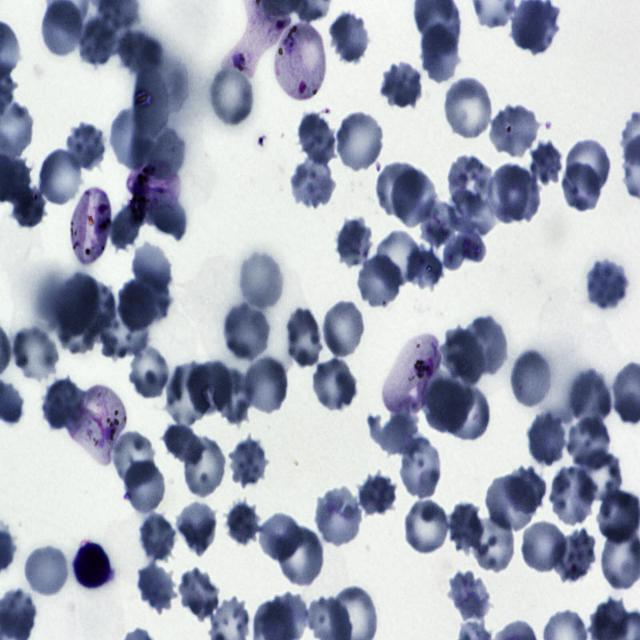leukocyte: (72, 540, 112, 590)
red blood cell: (275, 525, 324, 587), (333, 109, 382, 170), (446, 154, 494, 215), (315, 487, 362, 547), (376, 160, 423, 220), (486, 474, 536, 530), (132, 67, 168, 144), (445, 77, 491, 137), (373, 233, 422, 289), (568, 368, 612, 429), (165, 362, 209, 423), (445, 382, 490, 441), (58, 298, 105, 354), (391, 168, 436, 226), (223, 304, 270, 359), (463, 316, 507, 374), (288, 157, 336, 210), (115, 26, 163, 79), (400, 436, 441, 498), (210, 66, 253, 125), (440, 327, 484, 384), (187, 360, 231, 417), (489, 106, 538, 157), (240, 252, 283, 310), (424, 380, 470, 434), (474, 510, 514, 572), (243, 358, 287, 414), (184, 436, 225, 496), (551, 468, 594, 525), (110, 108, 150, 169), (13, 327, 58, 381), (418, 24, 459, 83), (213, 366, 254, 425), (510, 350, 551, 408), (496, 166, 540, 220), (578, 450, 622, 504), (142, 126, 186, 180), (358, 253, 401, 308), (114, 431, 156, 487), (585, 259, 629, 312), (39, 150, 82, 204), (324, 300, 364, 358), (58, 274, 98, 332), (488, 164, 526, 225), (448, 188, 496, 236), (368, 412, 418, 458), (598, 490, 640, 544), (41, 378, 83, 432), (296, 111, 337, 166), (100, 310, 146, 359), (567, 418, 610, 470), (406, 501, 448, 554), (124, 459, 165, 513), (520, 522, 566, 570), (126, 276, 172, 324), (379, 61, 424, 110), (312, 360, 356, 410), (526, 412, 565, 468), (179, 568, 220, 621), (330, 11, 370, 64), (570, 140, 610, 193), (554, 530, 596, 580), (260, 514, 303, 562), (446, 502, 484, 556), (138, 512, 178, 563), (508, 464, 548, 515), (77, 282, 116, 334), (178, 502, 216, 555), (448, 572, 489, 621), (26, 546, 66, 596), (230, 437, 270, 487), (288, 310, 322, 368), (78, 17, 118, 66), (130, 348, 168, 398), (118, 282, 156, 332), (406, 243, 445, 291), (563, 163, 601, 212), (138, 565, 176, 613), (133, 242, 171, 290), (421, 200, 459, 248), (66, 123, 104, 170), (224, 499, 262, 545), (163, 424, 204, 466), (337, 218, 372, 267), (148, 200, 187, 242), (358, 472, 396, 514), (10, 186, 47, 228), (111, 203, 143, 251), (530, 142, 561, 185)
trophozoite: (222, 0, 290, 78), (382, 334, 441, 414), (272, 19, 328, 102), (68, 386, 126, 464), (69, 185, 112, 267), (128, 162, 182, 224)
